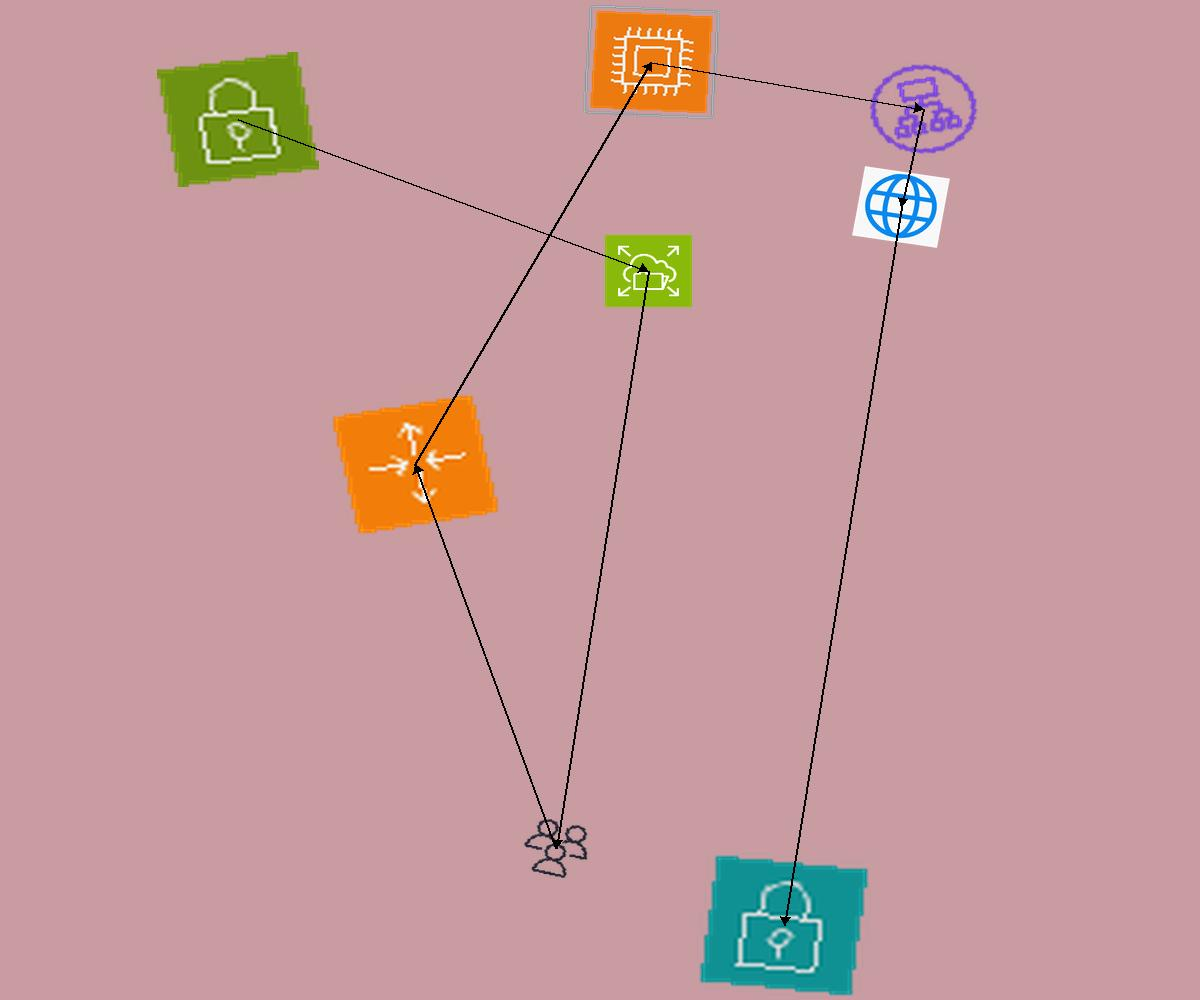AWS-Category_Compute: (582, 4, 721, 120)
AWS-EFS: (604, 234, 693, 308)
AWS-Private-subnet: (697, 853, 871, 998)
AWS-Public-subnet: (157, 52, 319, 187)
AWS-Res_Elastic-Load-Balancing_Application-Load-Balancer: (854, 51, 993, 167)
AWS-Res_Users: (513, 812, 600, 885)
AWS-Scaling-group: (330, 393, 501, 536)
Azure_http: (852, 166, 950, 248)
